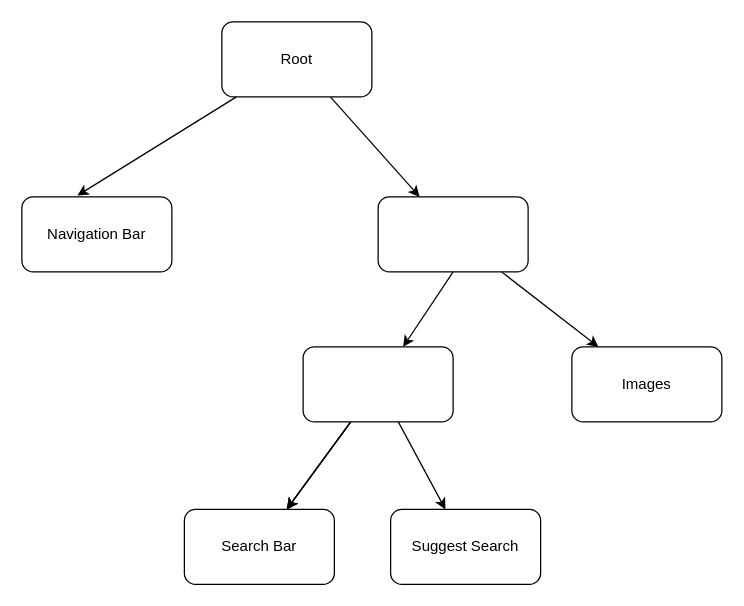
Some shapes in this 744 by 606 pixel diagram are drawn without their labels. Here are the shapes that lost their labels. From the top down, the box of each, then its label:
(377, 196, 528, 272): Main
(302, 346, 453, 422): Hero Section
